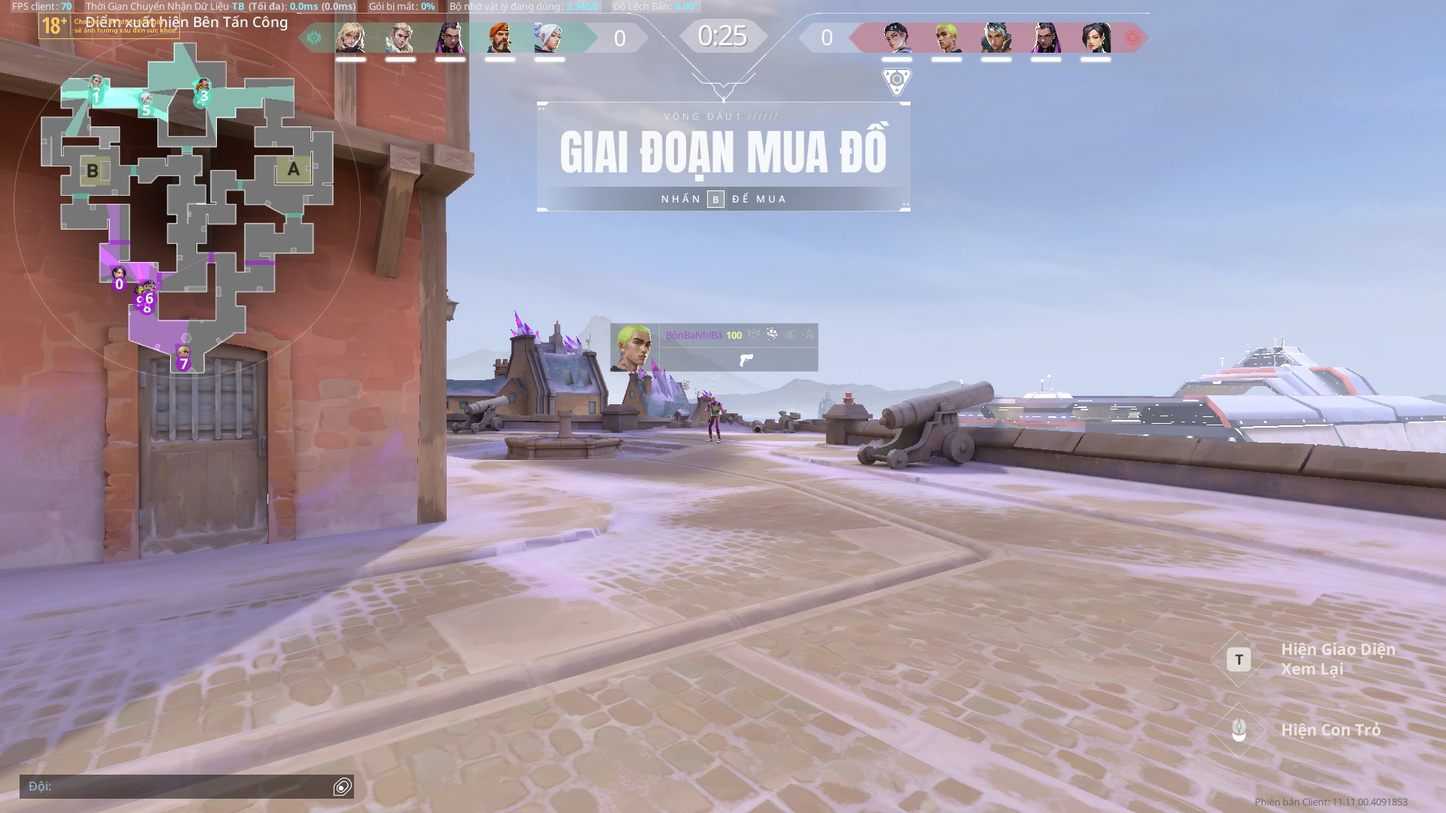body: (707, 400, 721, 416)
head: (710, 394, 716, 402)
